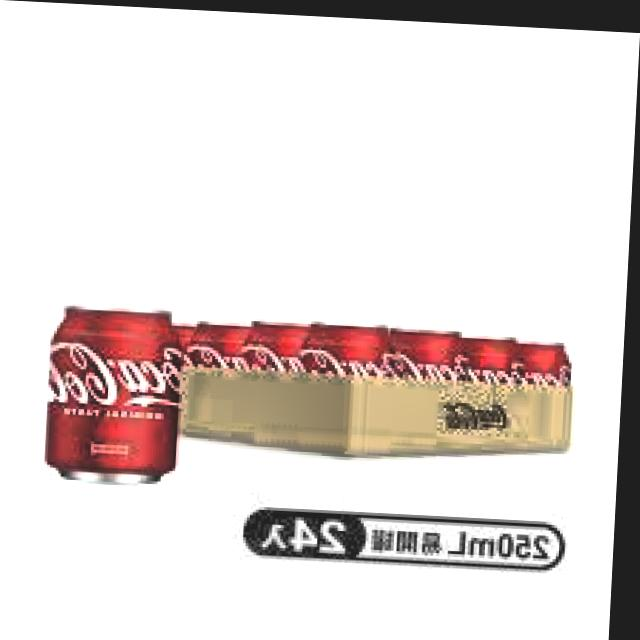can: (43, 300, 191, 491), (302, 309, 395, 385), (384, 312, 467, 386), (448, 321, 525, 387), (248, 312, 316, 371), (512, 332, 581, 390), (188, 311, 254, 367)
